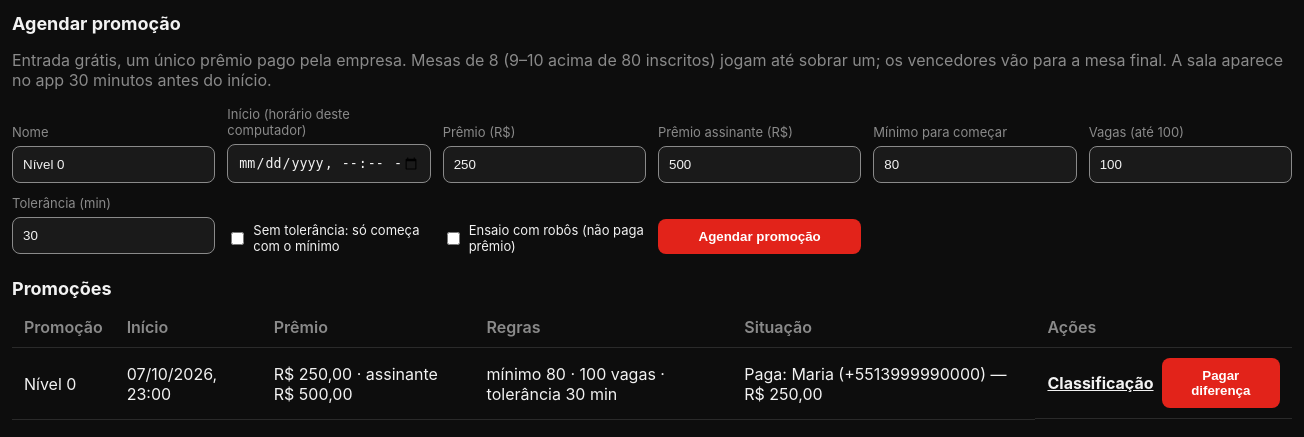
Test case: Promotions tab › pays the subscriber difference once the plan is released
Click the button "Pagar diferença". click: (1221, 383)
box: [1162,358,1280,408]
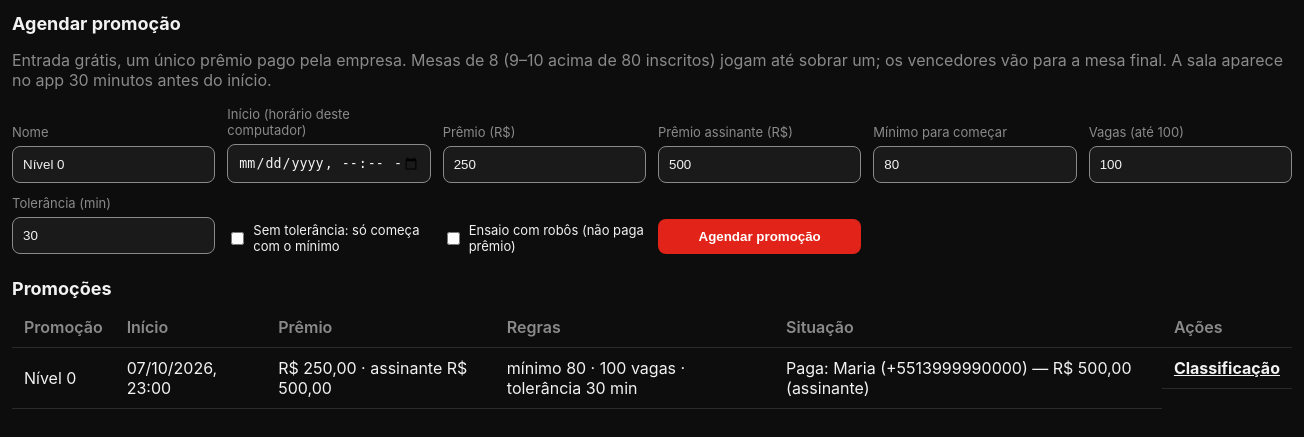
Expected: the button "Pagar diferença" is gone
